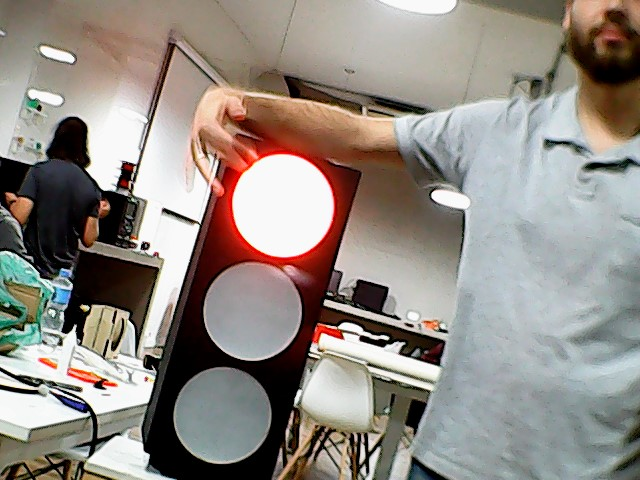vermelho: (137, 131, 367, 480)
